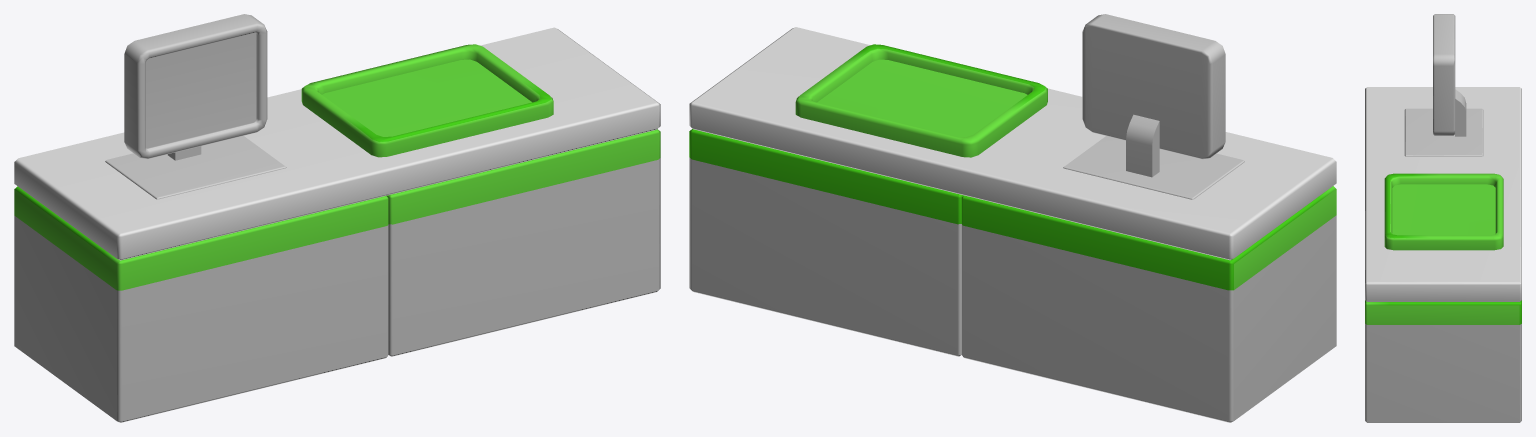
File: Table_Cashier_New.fbx
The picture shows the model from 3 angles, left to right: view 1: azimuth 30°, elevation 25°; view 2: azimuth 150°, elevation 25°; view 3: azimuth 270°, elevation 25°; orthographic projection. The views are drawn at different scales.
Visible parts, largest first — view 1: Table_Cashier; view 2: Table_Cashier; view 3: Table_Cashier.
Boxes of the visible parts, x1,y1,x2,y2 form: Table_Cashier: [14, 14, 660, 422]; Table_Cashier: [689, 14, 1336, 422]; Table_Cashier: [1365, 14, 1521, 422].
Size of the model in its own units: 300 by 170 by 101.
